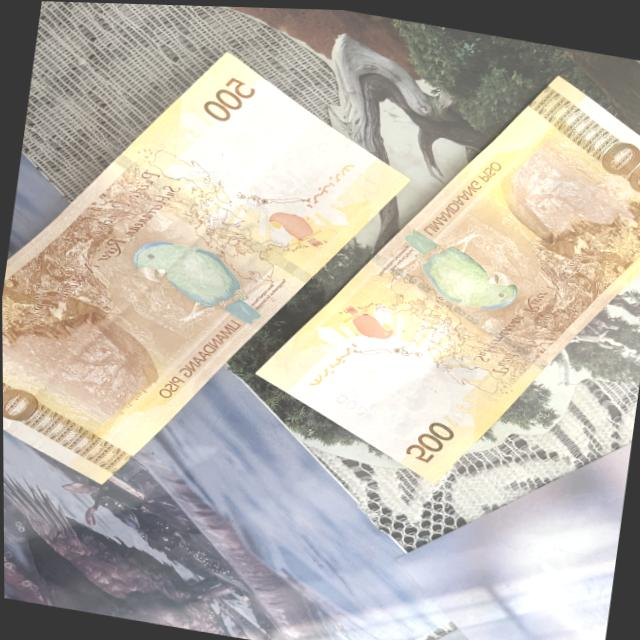500_big_parrot: (116, 236, 267, 332), (398, 225, 527, 321)
500_parrot_watermark: (338, 302, 398, 345), (265, 206, 324, 246)
value_watermark: (327, 389, 369, 415), (295, 121, 330, 150)
watermark: (318, 350, 456, 447), (217, 98, 335, 194)
